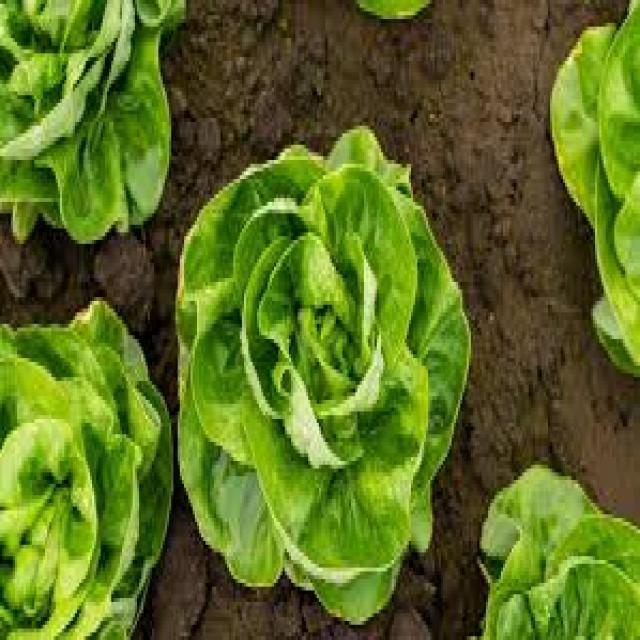Lettuce: (173, 125, 472, 630), (0, 293, 173, 639), (0, 0, 186, 261), (550, 0, 640, 373), (477, 464, 640, 640)
